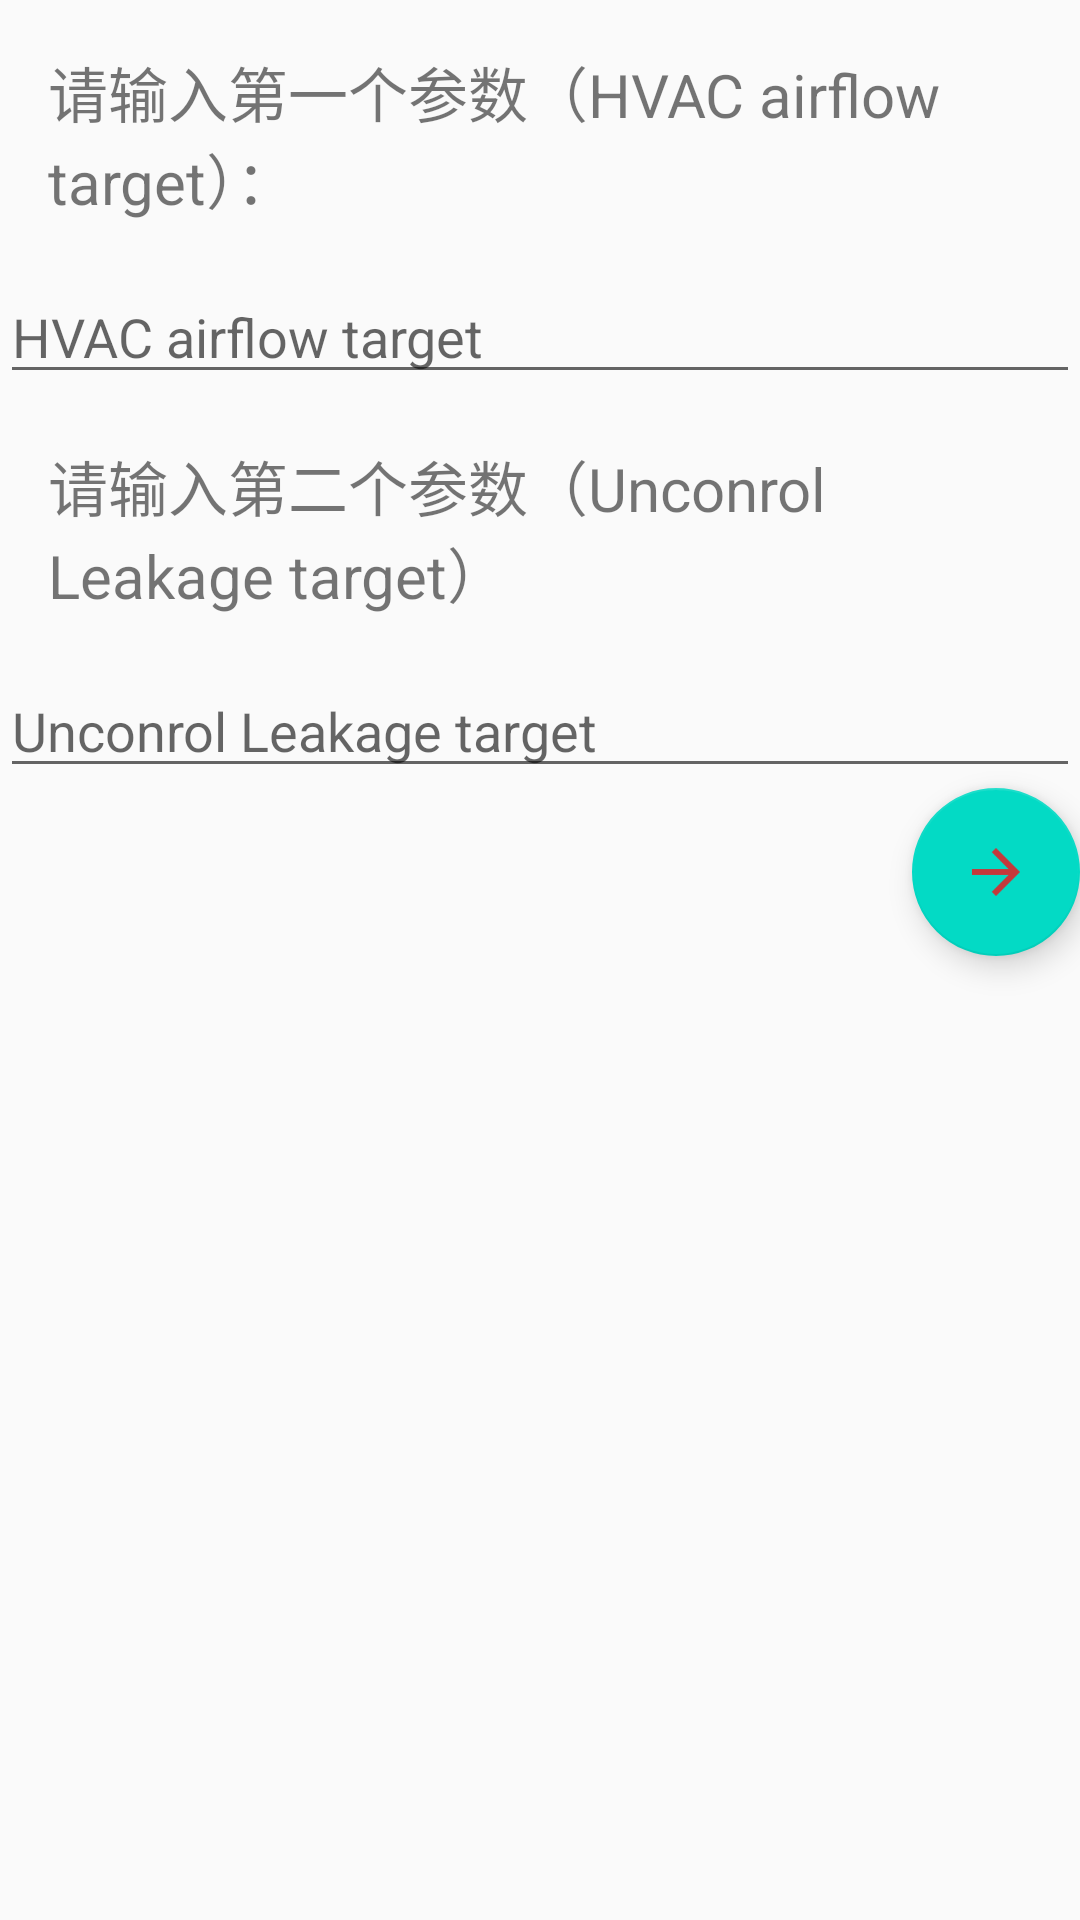

Named icons in this screenshot (1080 x 1920) and their centers, [x,y]:
arrow forward: [996,872]
